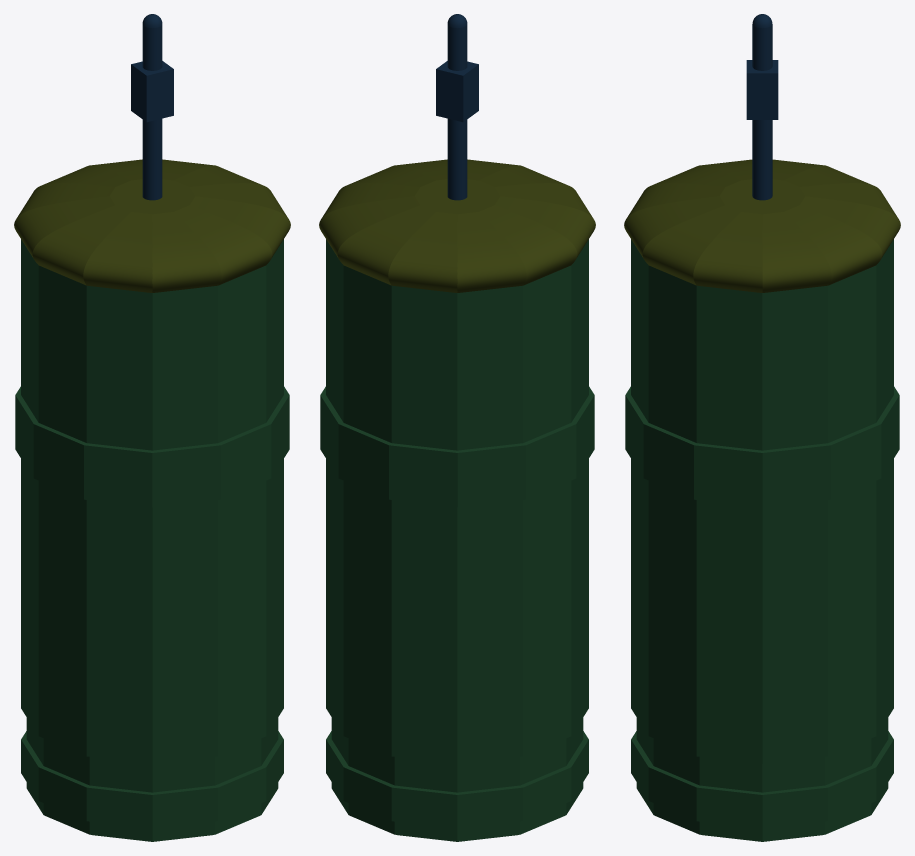
3 views of the same model, side by side, from view 1: azimuth 30°, elevation 25°; view 2: azimuth 150°, elevation 25°; view 3: azimuth 270°, elevation 25° (orthographic).
Parts seen in each view (by area): view 1: base, cap, shaft; view 2: base, cap, shaft; view 3: base, cap, shaft.
Part boxes in pixels (x1,y1,x2,y2): base: (15,239,289,841); cap: (14,159,290,292); shaft: (131,14,173,200); base: (320,239,594,841); cap: (319,159,595,292); shaft: (436,14,478,200); base: (625,239,899,841); cap: (624,159,900,292); shaft: (746,14,778,200).
Size of the model in its own units: 0.0969 by 0.2998 by 0.0969.
